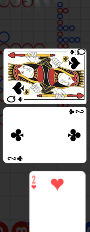2C: (6, 155, 23, 163)
QS: (8, 87, 32, 113), (62, 53, 86, 79)
